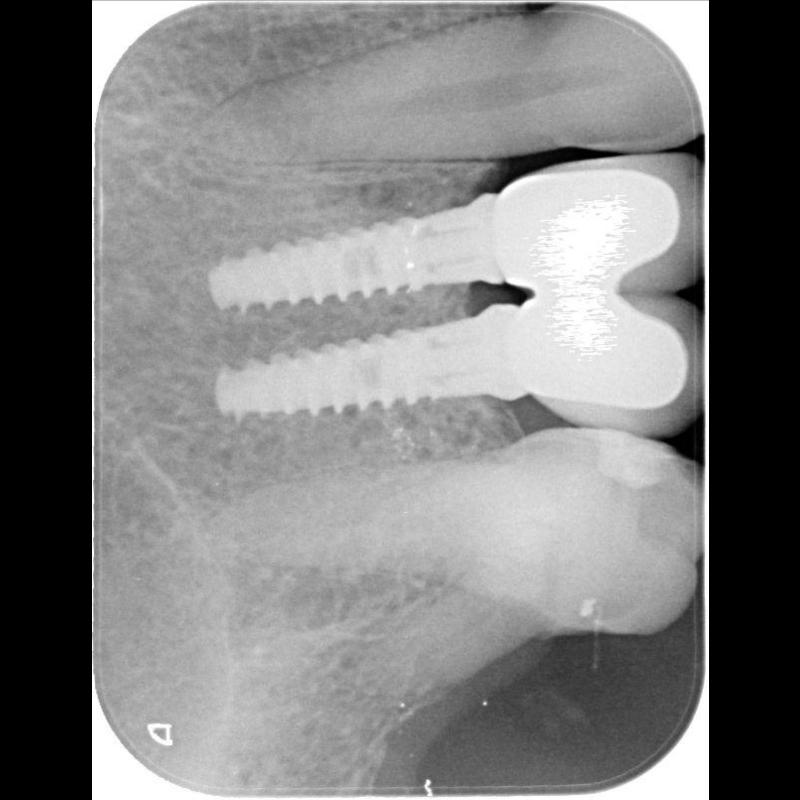MIS: (212, 318, 490, 430), (200, 205, 474, 312), (204, 256, 216, 256)
